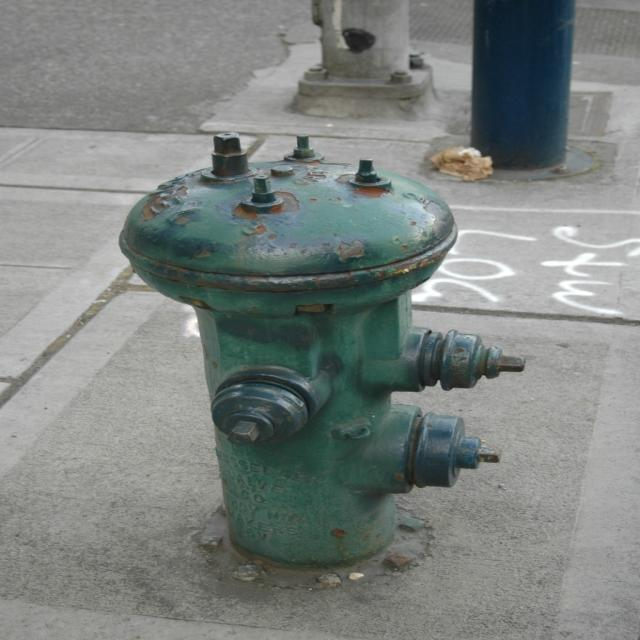fire_hydrant: (119, 132, 526, 560)
